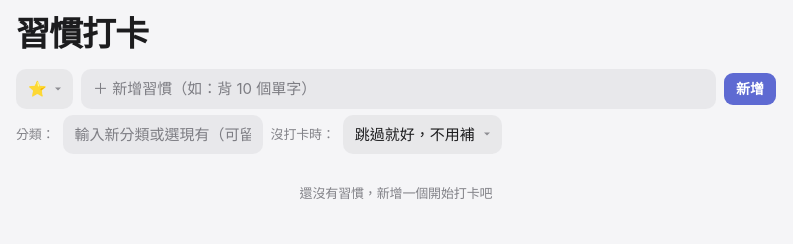
Test: 習慣頁新增習慣的 IME／防重／寫入／刷新邊界 › 沒有錯誤訊息的寫入失敗退回預設繁中提示
This screenshot has width=793, height=244.
Type "喝水" into the field with placeholder "＋ 新增習慣（如：背 10 個單字）". click: (398, 89)
box: left=81, top=69, right=716, bottom=109
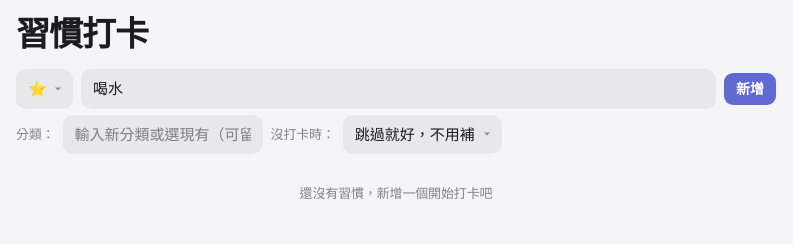
Submit the form with placeholder "＋ 新增習慣（如：背 10 個單字）", box left=16, top=69, right=776, bottom=154
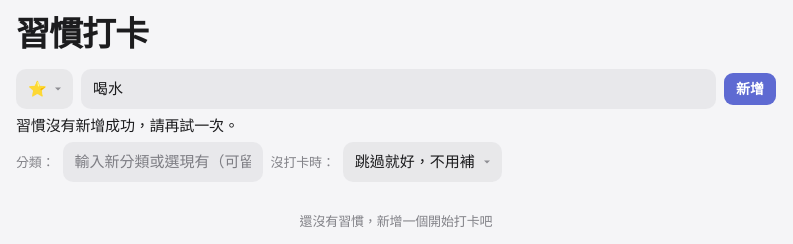
Check: the message reads "習慣沒有新增成功，請再試一次。", box left=16, top=116, right=239, bottom=134
